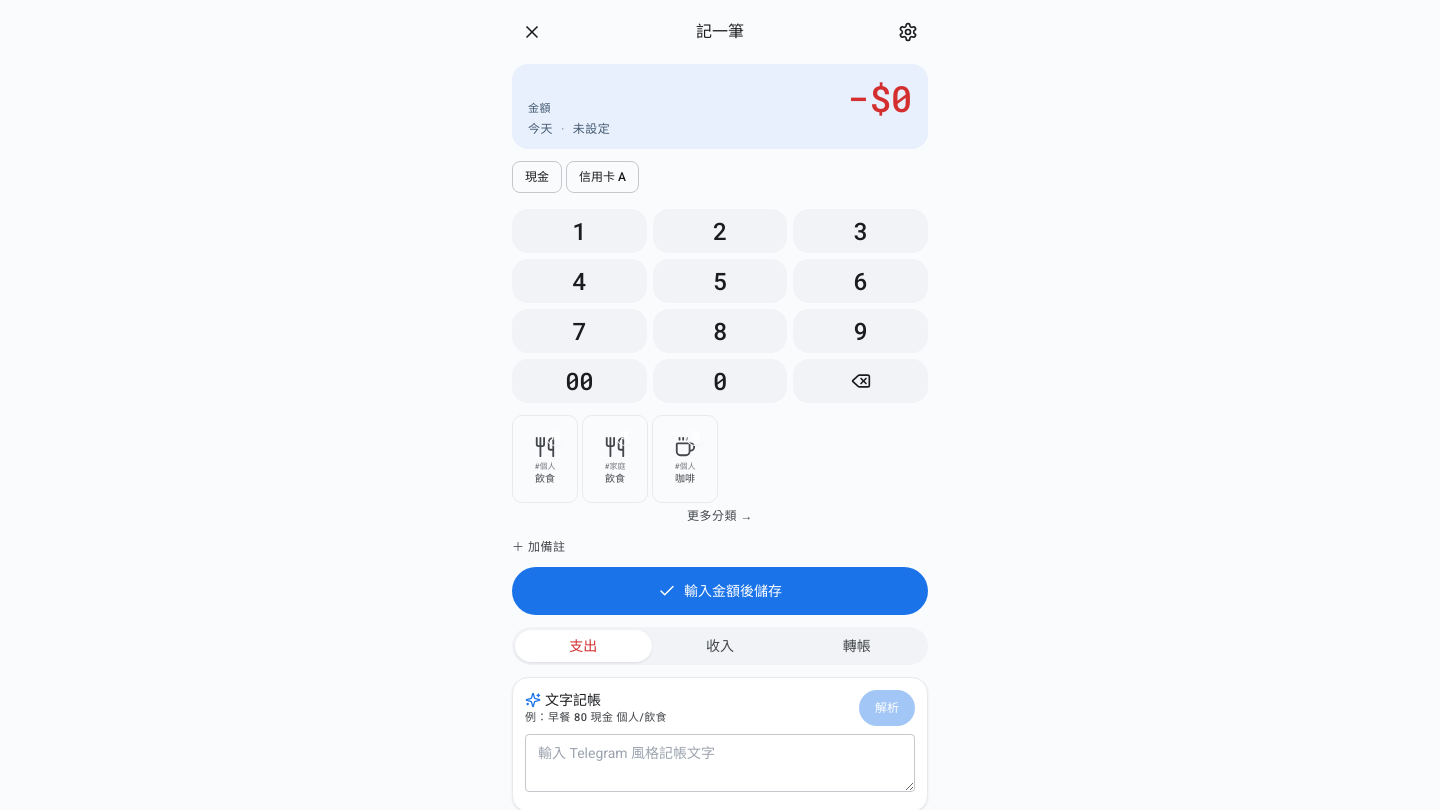
it: QuickEntryPage (M3 v2.0) › opens category picker modal when 「更多分類」 is clicked
Click the button "更多分類 →" at (720, 516), box [512,508,928,524]
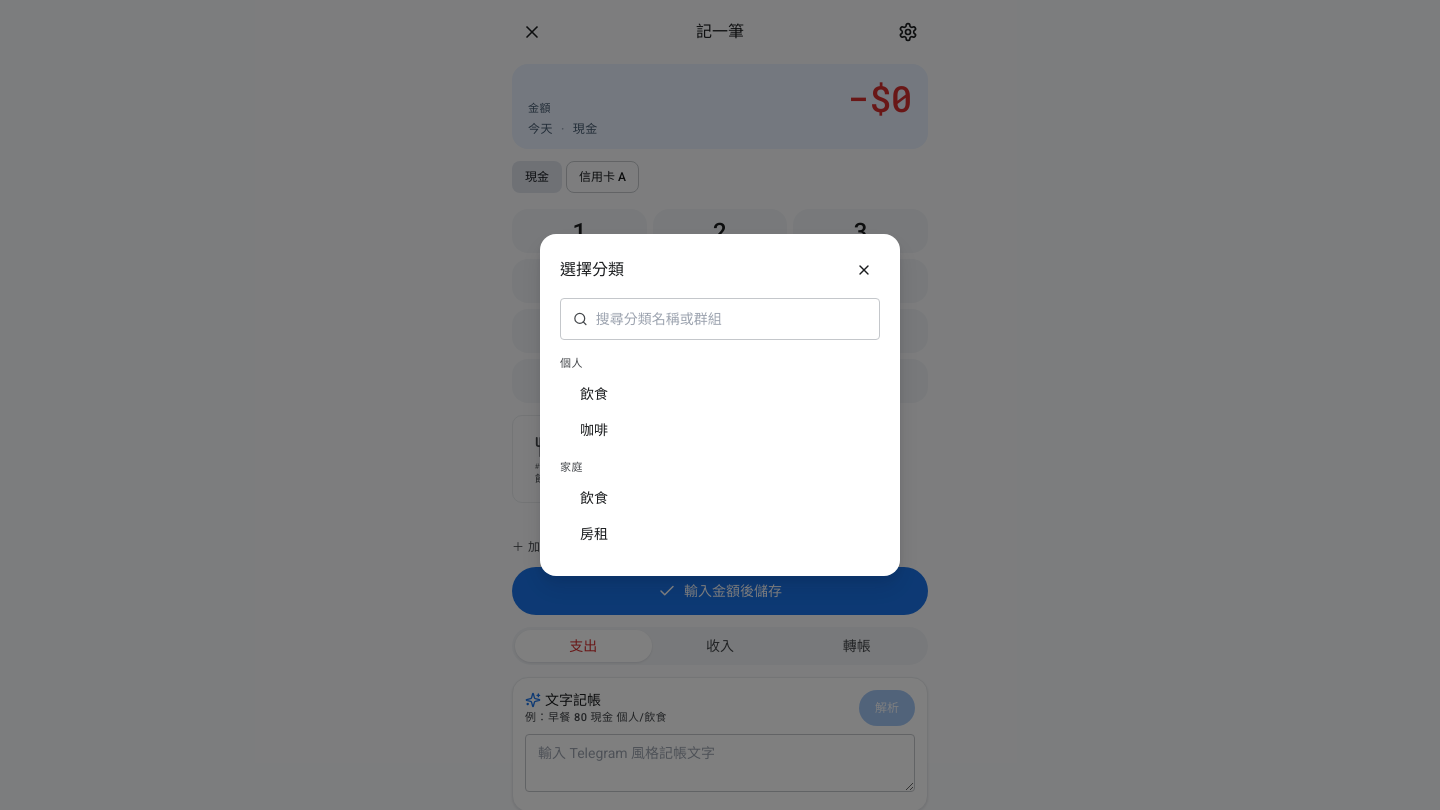
Now the dialog "選擇分類" is shown
